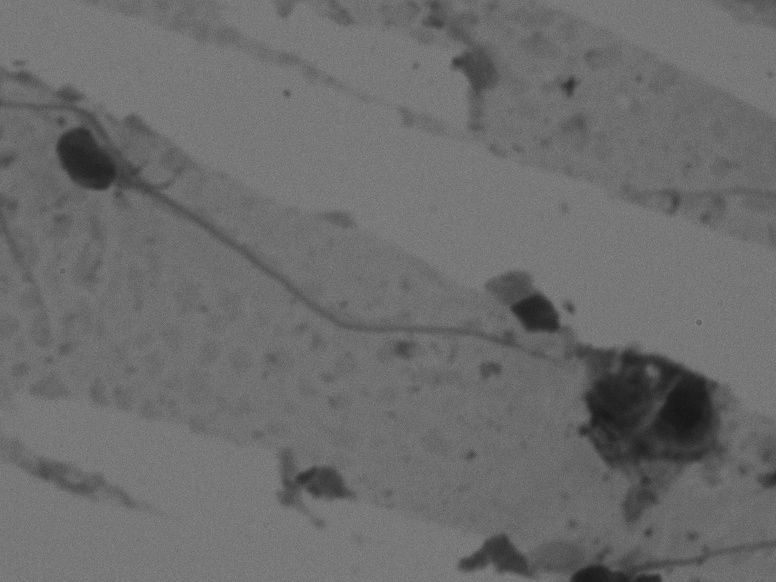Abnormal: (34, 106, 583, 421)
